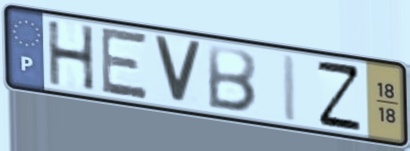B: (205, 42, 259, 116)
E: (99, 25, 150, 103)
H: (44, 19, 98, 94)
I: (280, 51, 300, 126)
V: (150, 33, 206, 109)
Z: (314, 59, 364, 133)
